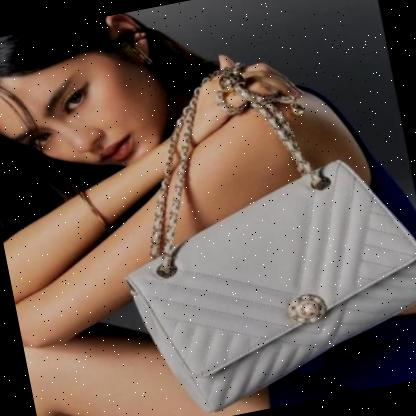bag: (87, 32, 416, 416)
